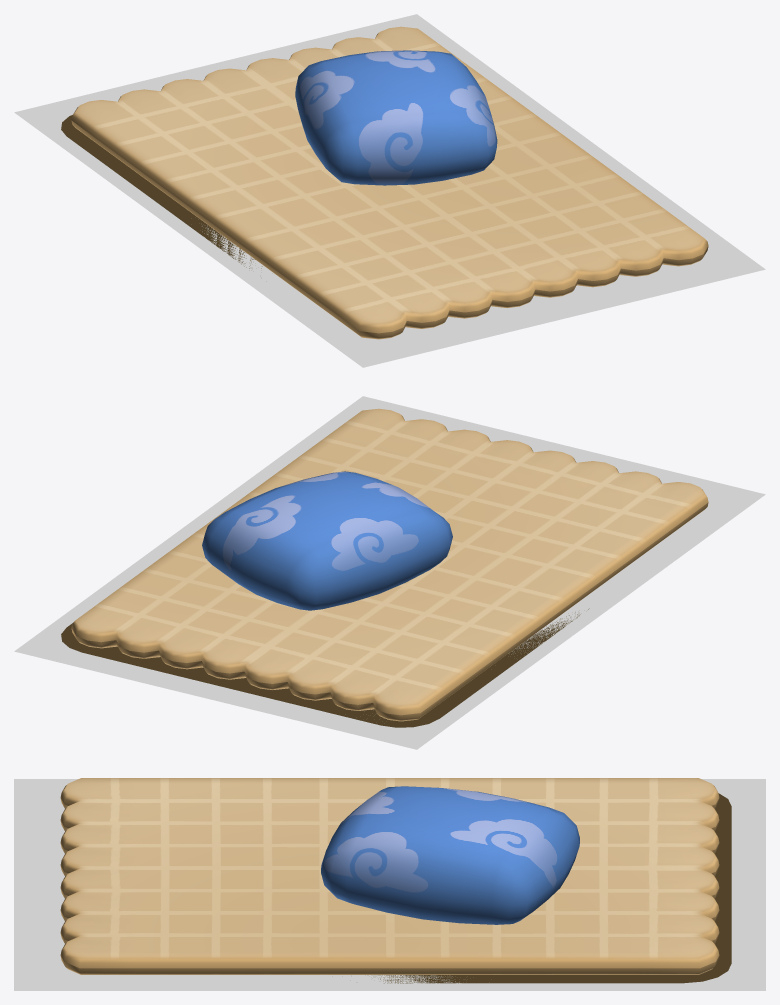
The model's file is JP_Bed.fbx.
3 renders of one model, top to bottom at view 1: azimuth 30°, elevation 25°; view 2: azimuth 150°, elevation 25°; view 3: azimuth 270°, elevation 25°, orthographic. The views are drawn at different scales.
Visible parts, largest first — view 1: polySurface4, Bed_Grid_Large, polySurface1, Shadow; view 2: polySurface4, polySurface1, Bed_Grid_Large, Shadow; view 3: polySurface4, polySurface1, Bed_Grid_Large, Shadow.
Part boxes in pixels (bbox=[...]): polySurface4: bbox=[71, 26, 708, 339]; Bed_Grid_Large: bbox=[14, 14, 765, 367]; polySurface1: bbox=[295, 50, 497, 185]; Shadow: bbox=[61, 115, 262, 268]; polySurface4: bbox=[71, 408, 708, 721]; polySurface1: bbox=[202, 471, 452, 610]; Bed_Grid_Large: bbox=[14, 396, 765, 749]; Shadow: bbox=[61, 608, 589, 727]; polySurface4: bbox=[60, 778, 719, 974]; polySurface1: bbox=[321, 786, 579, 924]; Bed_Grid_Large: bbox=[14, 779, 765, 990]; Shadow: bbox=[378, 793, 731, 983].
Size of the model in its own units: 2 by 0.3991 by 3.
